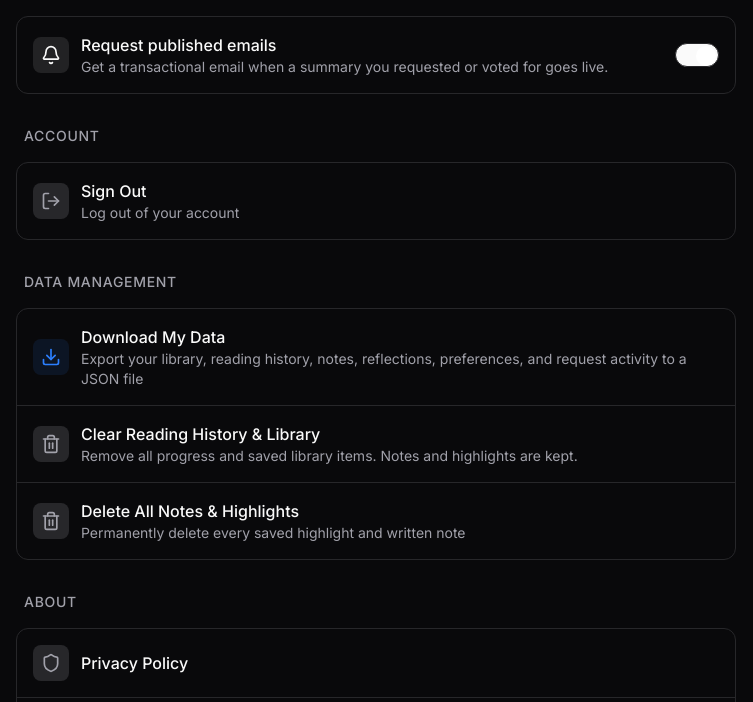
Test: settings data export delivery › keeps an in-flight export active when a token refresh keeps the same account
(page scrolled)
Click the button that starts with "Download My Data" at (376, 357), box [17,308,735,406]
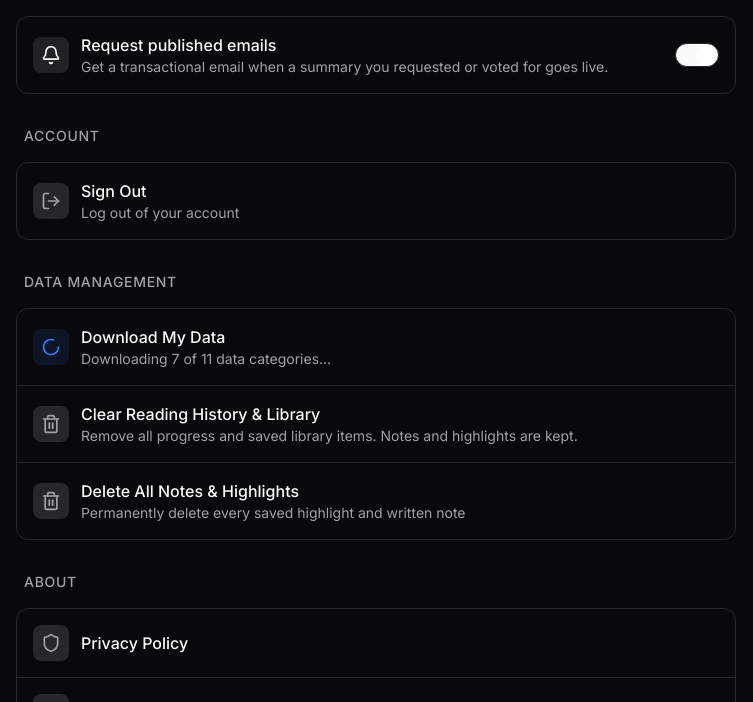
Expected: the text "Downloading 7 of 11 data categories…" is shown, [81,348,331,368]
